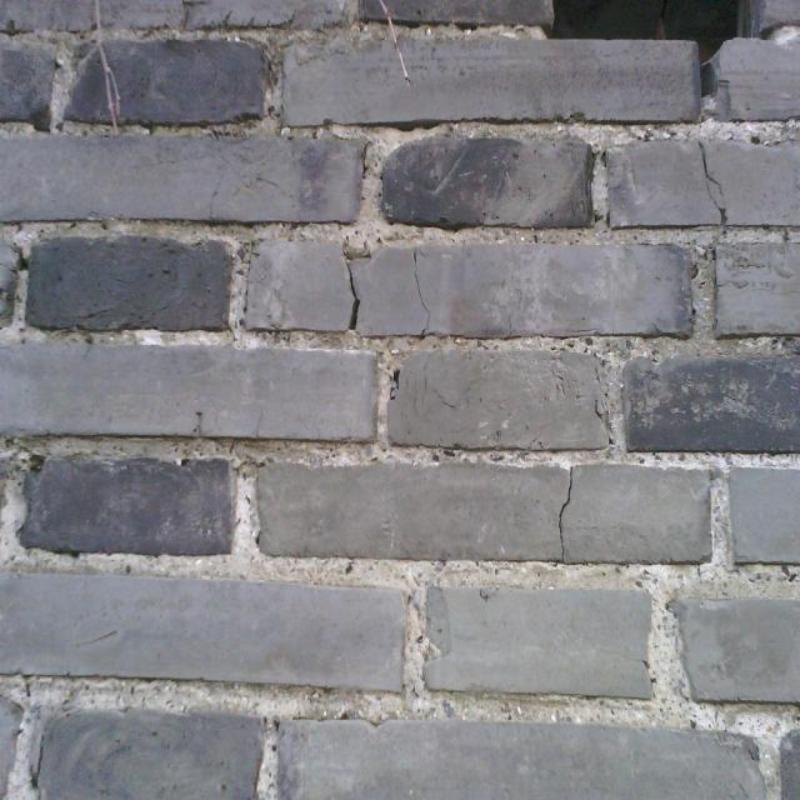pothole: (699, 143, 726, 225), (558, 466, 574, 564), (414, 248, 431, 339), (349, 267, 361, 329), (19, 259, 29, 271)
